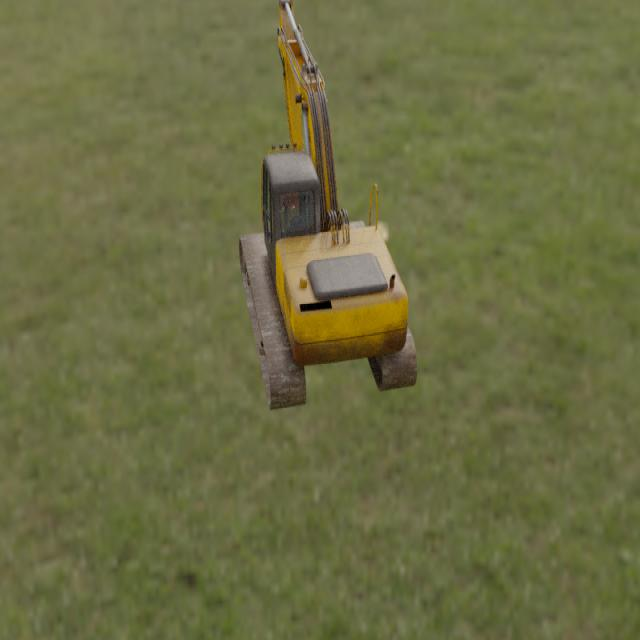excavator: (238, 0, 417, 412)
